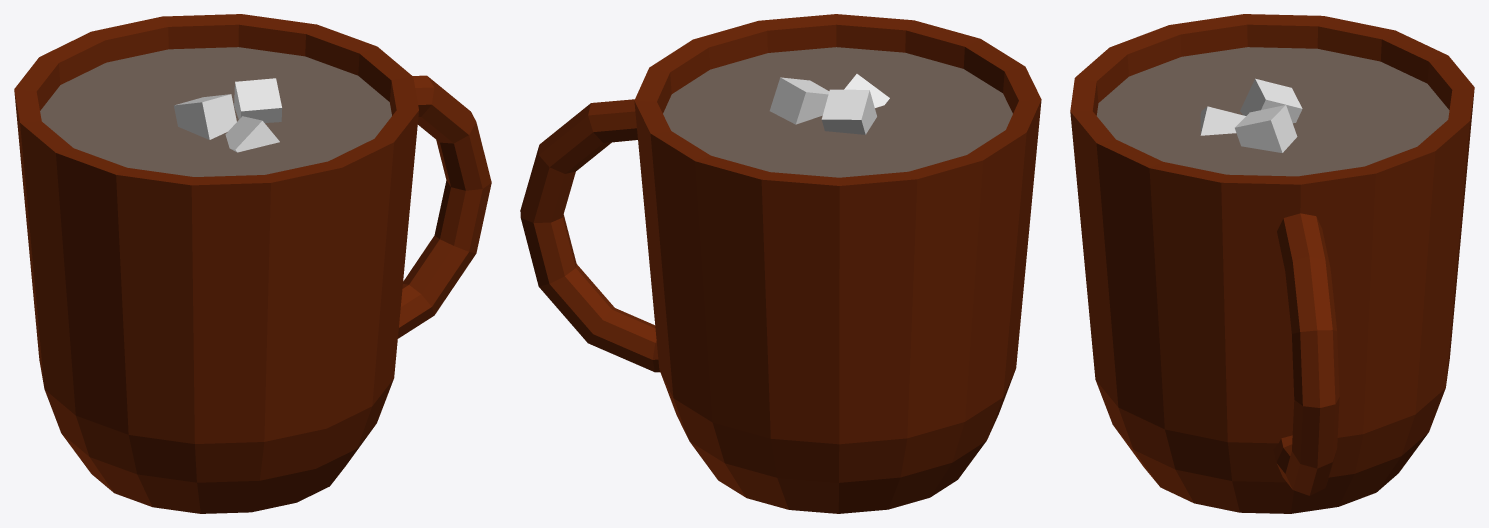
Rendered from CupFinishedModel.fbx.
The picture shows the model from 3 angles, left to right: view 1: azimuth 30°, elevation 25°; view 2: azimuth 150°, elevation 25°; view 3: azimuth 270°, elevation 25°; orthographic projection.
Parts seen in each view (by area): view 1: CupFinished, CupFinished.001, CupFinished.002; view 2: CupFinished, CupFinished.001, CupFinished.002; view 3: CupFinished, CupFinished.001, CupFinished.002.
Boxes of the visible parts, x1,y1,x2,y2 form: CupFinished: [14, 14, 418, 513]; CupFinished.001: [398, 75, 491, 338]; CupFinished.002: [174, 78, 282, 152]; CupFinished: [634, 14, 1041, 513]; CupFinished.001: [520, 99, 659, 372]; CupFinished.002: [769, 74, 889, 134]; CupFinished: [1070, 14, 1474, 513]; CupFinished.001: [1274, 213, 1339, 495]; CupFinished.002: [1200, 78, 1302, 152].
Size of the model in its own units: 44.57 by 33.51 by 33.23.
